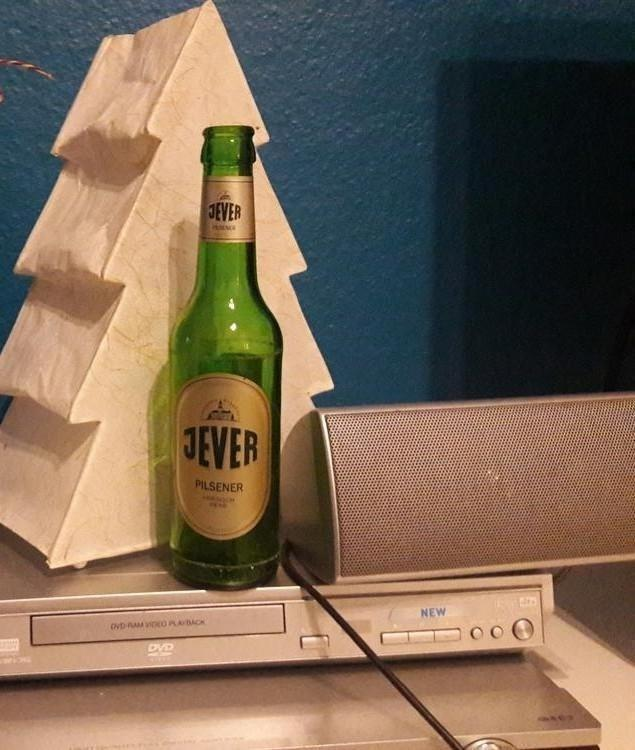bottle-glass: (166, 122, 287, 594)
